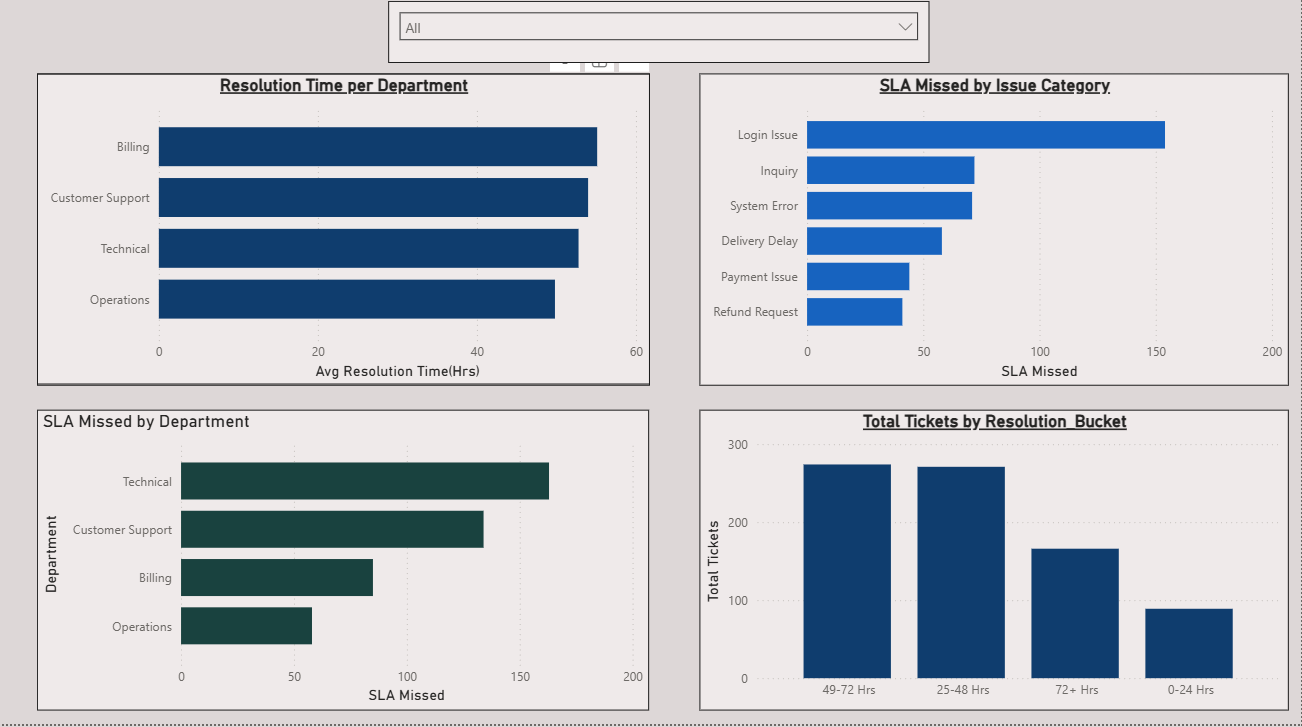

What the dashboard file says about the page in this screenshot:
{"tool":"powerbi","page":{"name":"Bottleneck Analysis","canvas":[1280,720],"ordinal":1},"visuals":[{"type":"clusteredBarChart","title":"Resolution Time per Department","fields":{"Y":["operations_performance_data.Avg Resolution Time(Hrs)"],"Category":["operations_performance_data.Department"]},"box":[38.8,80.6,601.3,306.4],"z":0},{"type":"barChart","title":"SLA Missed by Issue Category","fields":{"Category":["operations_performance_data.Issue_Category"],"Y":["operations_performance_data.SLA Missed"]},"box":[689.1,80.6,578.3,306.4],"z":1000},{"type":"columnChart","fields":{"Category":["operations_performance_data.Resolution_Bucket"],"Y":["operations_performance_data.Total Tickets"]},"box":[689.1,411.4,578.3,294.9],"z":2000},{"type":"slicer","fields":{"Values":["operations_performance_data.Month"]},"box":[384.1,10.1,530.8,60.4],"z":3000},{"type":"clusteredBarChart","fields":{"Category":["operations_performance_data.Department"],"Y":["operations_performance_data.SLA Missed"]},"box":[39,411,601,295],"z":4000}]}

Visuals, with their boxes in screenshot pixels (x1, y1, x2, y2), scaled from the page's 1280x720 canvas onto the 1302x727 screenshot:
"Resolution Time per Department" clusteredBarChart: locate(39, 81, 651, 391)
"SLA Missed by Issue Category" barChart: locate(701, 81, 1289, 391)
columnChart - operations_performance_data.Resolution_Bucket x operations_performance_data.Total Tickets: locate(701, 415, 1289, 713)
slicer - operations_performance_data.Month: locate(391, 10, 931, 71)
clusteredBarChart - operations_performance_data.Department x operations_performance_data.SLA Missed: locate(40, 415, 651, 713)
